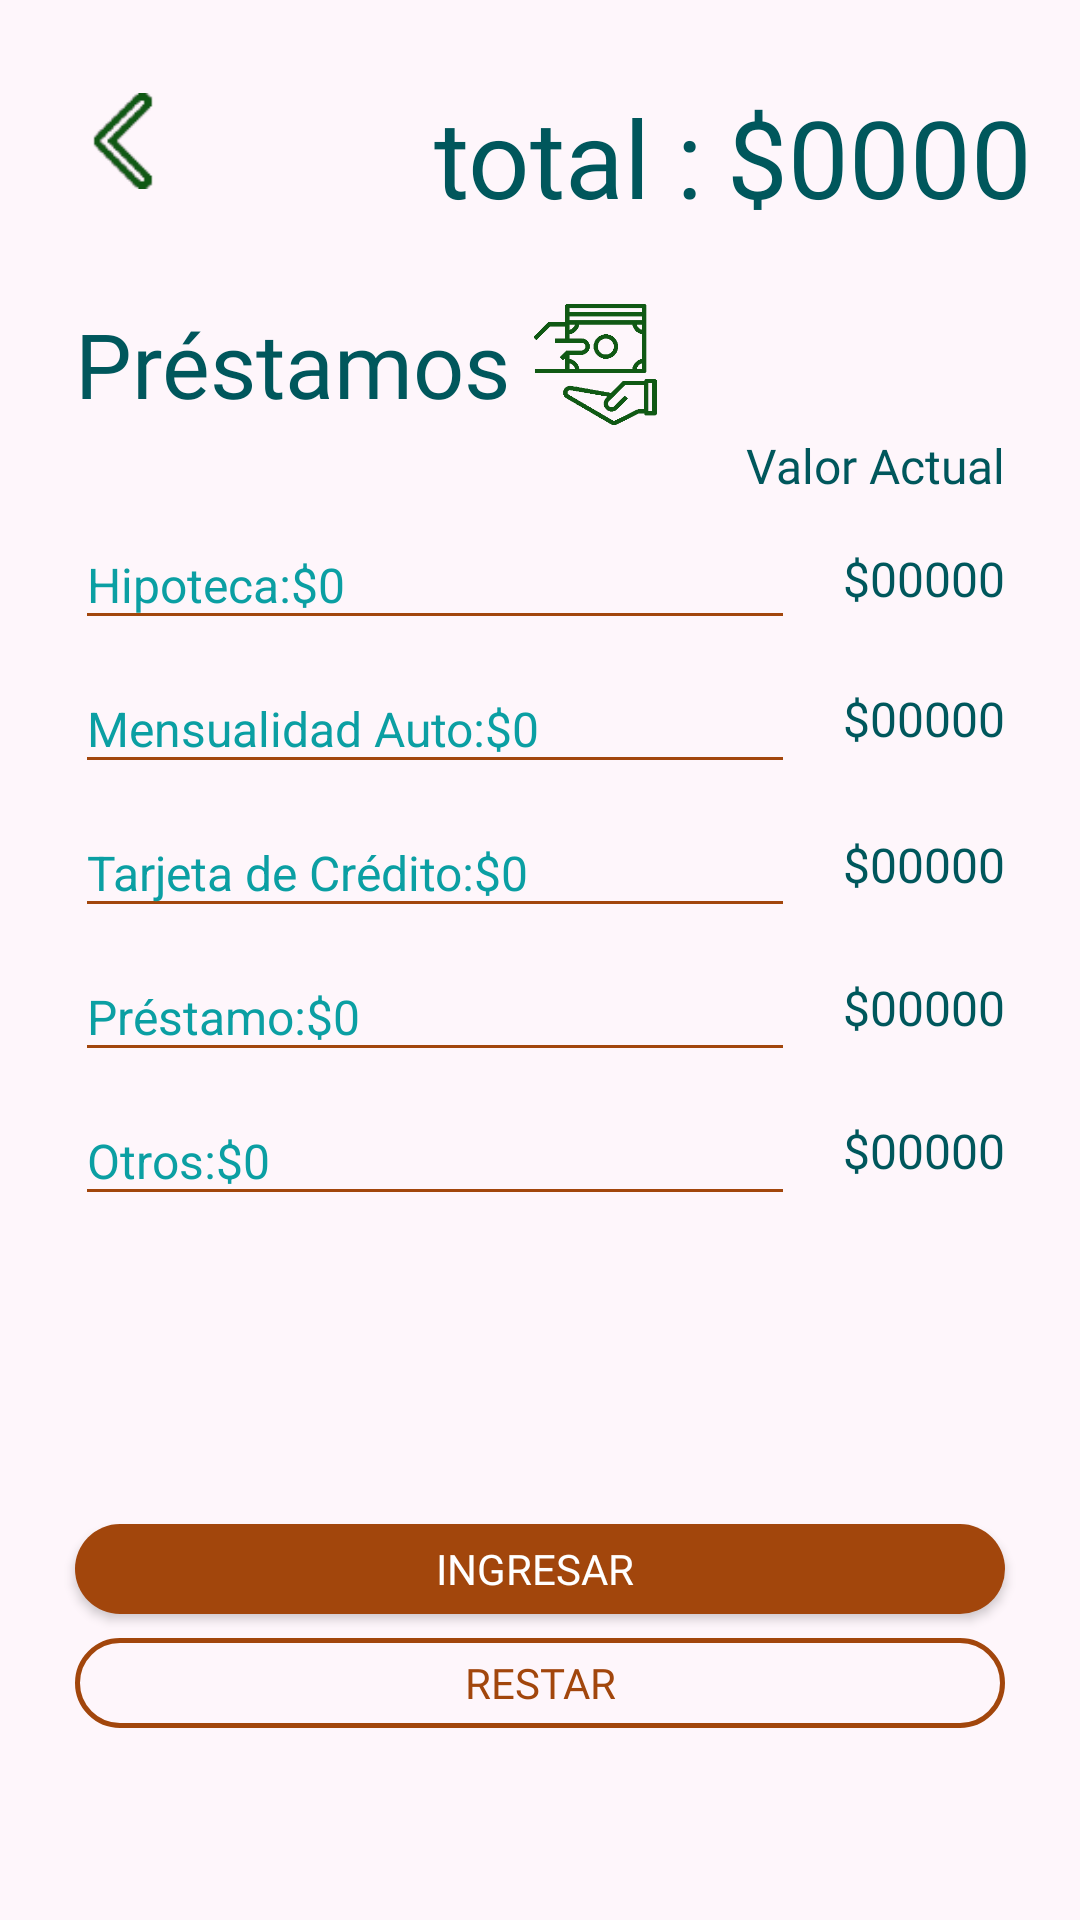

Point at icon controls on the screen. Image size 1080px x 1920px, points as point (x, y).
flecha: point (123, 141)
prestamopng: point (595, 364)
